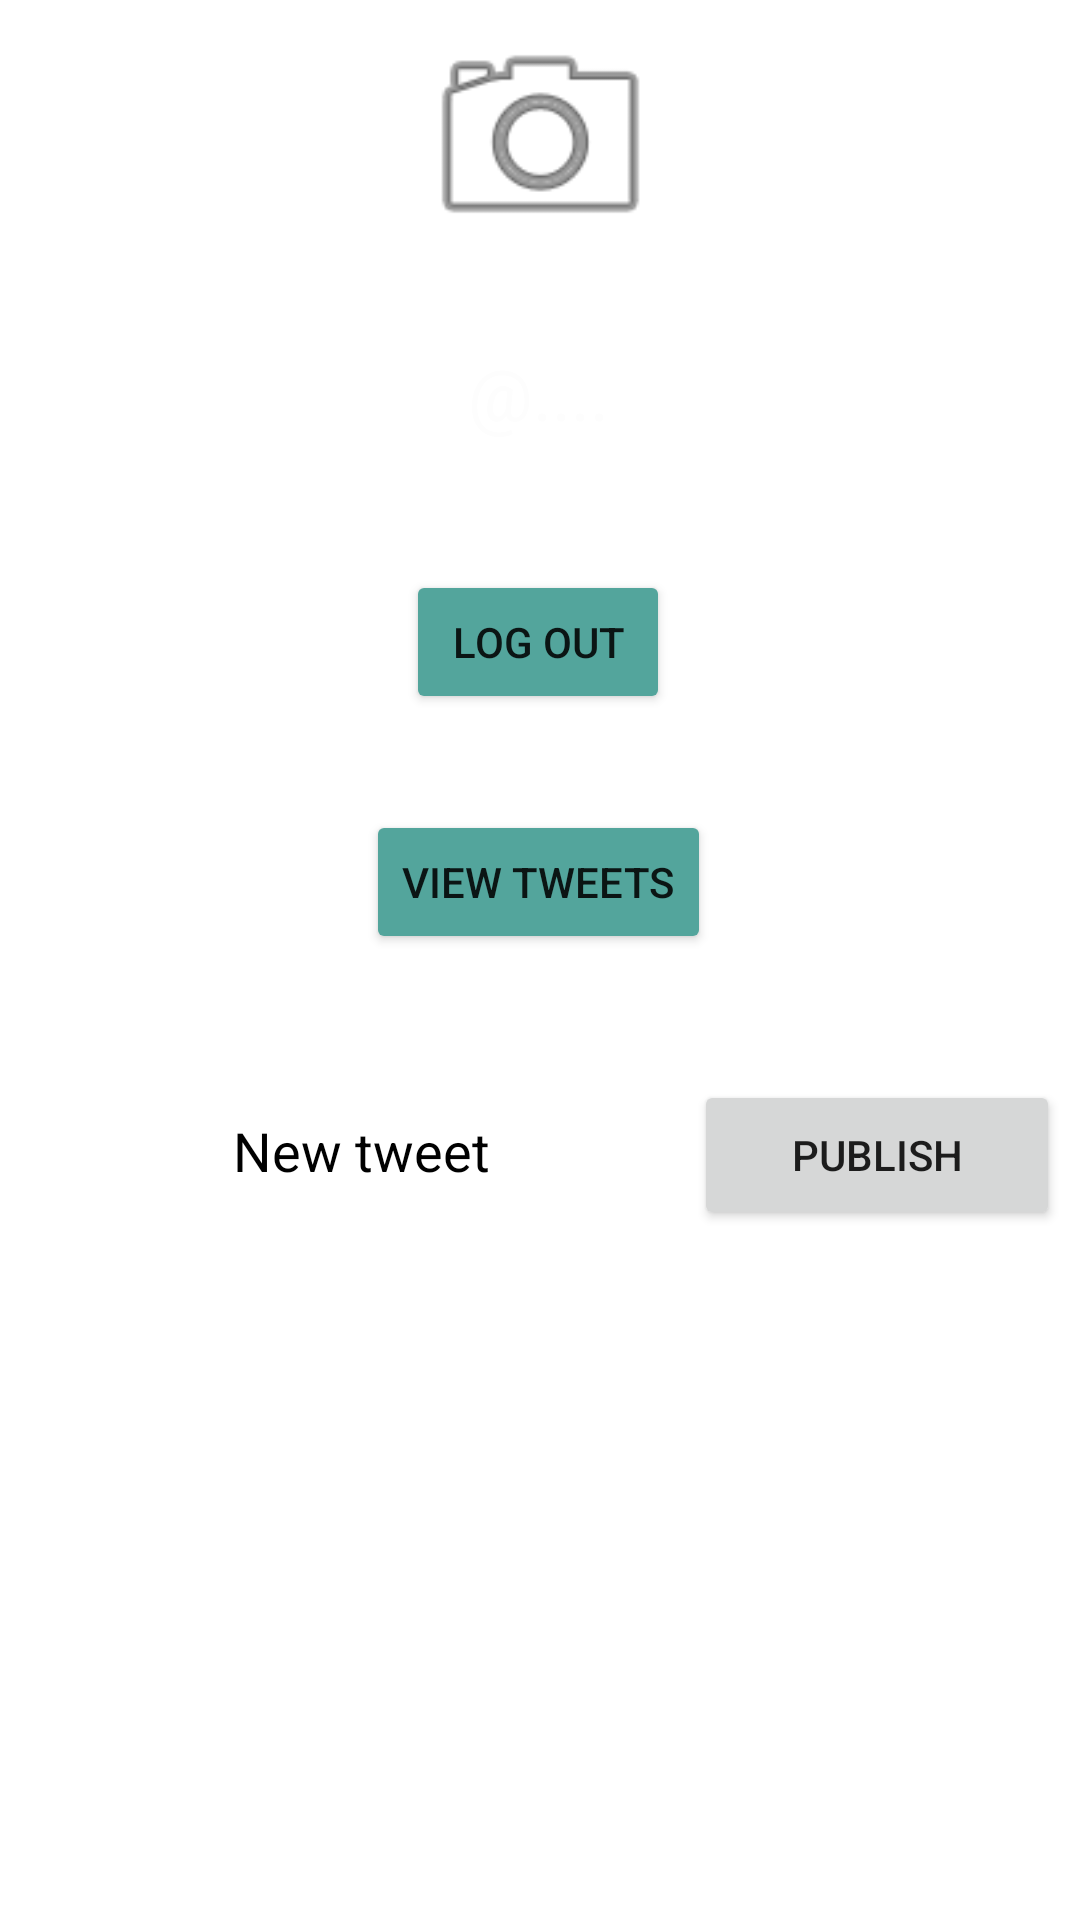

Icons on this 1080 x 1920 Android screen, each with its box as BBox(x1, y1, x2, y2):
camera: BBox(442, 55, 639, 213)
